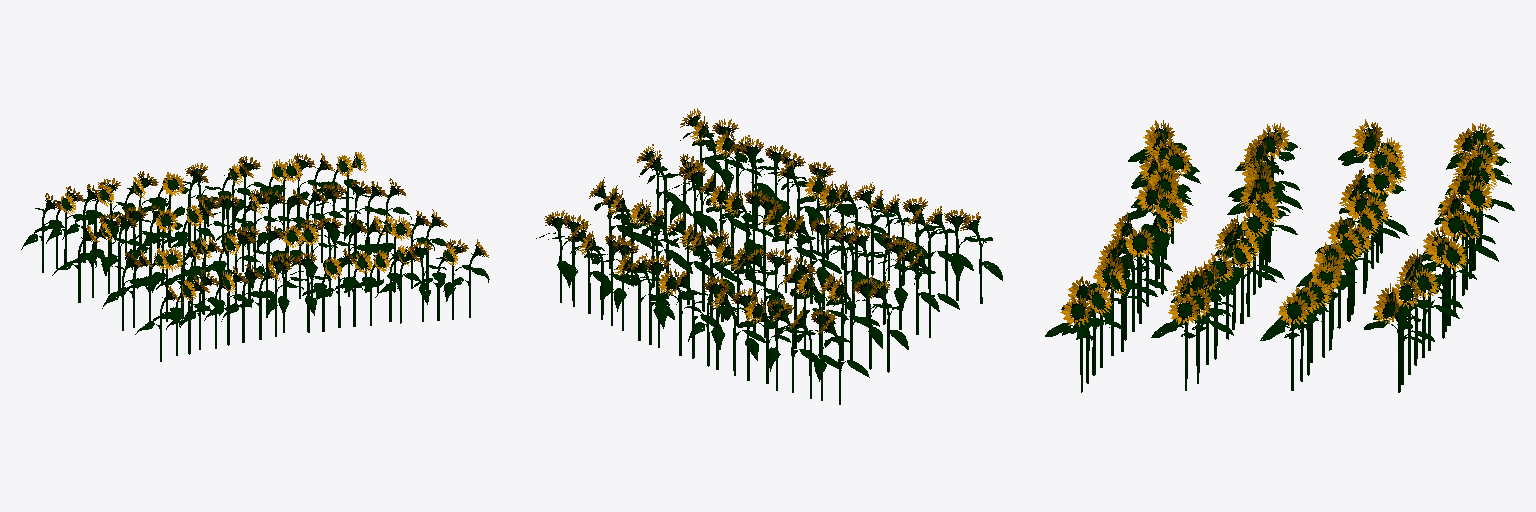
--- Facts derived from the render (not from the file) ---
3 views of the same robot in one strip: view 1: azimuth 30°, elevation 25°; view 2: azimuth 150°, elevation 25°; view 3: azimuth 270°, elevation 25° (orthographic).
Robot: field — 85 links, 84 joints (84 fixed); root link dummy_link; default pose: every joint at zero.
Links seen in each view (by area): view 1: plant_26, plant_48, plant_56, plant_44, plant_76; view 2: plant_45, plant_21, plant_2, plant_6, plant_8, plant_4, plant_40, plant_72, plant_10, plant_25, plant_29, plant_33 (+22 smaller); view 3: plant_82, plant_83, plant_84, plant_81, plant_52, plant_80, plant_73, plant_22, plant_69, plant_57, plant_79, plant_51 (+26 smaller).
Link boxes in pixels (bbox=[...]): plant_26: bbox=[142, 209, 182, 282]; plant_48: bbox=[302, 257, 341, 331]; plant_56: bbox=[335, 251, 372, 326]; plant_44: bbox=[290, 252, 331, 332]; plant_76: bbox=[413, 244, 457, 320]; plant_45: bbox=[649, 268, 702, 355]; plant_21: bbox=[737, 296, 790, 383]; plant_2: bbox=[867, 280, 908, 372]; plant_6: bbox=[843, 276, 891, 369]; plant_8: bbox=[936, 209, 986, 300]; plant_4: bbox=[960, 212, 1002, 303]; plant_40: bbox=[815, 181, 869, 269]; plant_72: bbox=[707, 130, 761, 217]; plant_10: bbox=[826, 276, 879, 360]; plant_25: bbox=[731, 288, 771, 380]; plant_29: bbox=[711, 287, 765, 375]; plant_33: bbox=[694, 278, 744, 369]; plant_82: bbox=[1260, 296, 1322, 390]; plant_83: bbox=[1151, 294, 1211, 390]; plant_84: bbox=[1045, 295, 1109, 392]; plant_81: bbox=[1364, 293, 1424, 392]; plant_52: bbox=[1120, 227, 1166, 323]; plant_80: bbox=[1062, 285, 1112, 383]; plant_73: bbox=[1373, 277, 1436, 374]; plant_22: bbox=[1355, 165, 1405, 262]; plant_69: bbox=[1400, 267, 1443, 365]; plant_57: bbox=[1428, 241, 1466, 338]; plant_79: bbox=[1172, 287, 1223, 383]; plant_51: bbox=[1215, 222, 1276, 323].
Bounding box of the posed robot: 3.48 × 3.43 × 0.8235 m (x, y, z).
Meshes: 1 distinct files referenced, 84 mesh visuals loaded (1 Collada DAE).

robot.urdf — field:
<?xml version="1.0"?> 
<robot name="field"> 
 <!-- auto generated urdf file --> 
 <link name="dummy_link"> 
  <inertial> 
   <origin xyz="0 0 0" /> 
   <mass value="5.0" /> 
   <inertia ixx="0.0" ixy="0.0" ixz="0.0" iyy="0.0" iyz="0.0" izz="0.0" /> 
  </inertial> 
  <visual> 
   <origin xyz="0 0 0" /> 
   <geometry> 
    <box size="0.00 0.00 0.00" /> 
   </geometry> 
  </visual> 
  <collision> 
   <origin xyz="0 0 0" /> 
   <geometry> 
    <box size="0.00 0.00 0.00" /> 
   </geometry> 
  </collision> 
 </link> 
 
 
 <!-- generate plants --> <link name="plant_1">
  <inertial>
   <origin xyz="0 0 0" /> 
   <mass value="5.0" />
   <inertia ixx="0.0" ixy="0.0" ixz="0.0" iyy="0.0" iyz="0.0" izz="0.0" />
  </inertial>
  <visual>
   <origin xyz="0 0 0"/>
   <geometry>
    <mesh filename="package://herbi_gazebo_worlds/ros/meshes/sunflower.dae"/>
   </geometry>
  </visual>
  <collision>
   <origin xyz="0 0 0.2"/>
   <geometry>
    <cylinder length="0.4" radius="0.02"/>
   </geometry>
  </collision>
 </link>

 <joint name="joint_plant_1" type="fixed">
  <origin xyz="0.013746 0.360110 0.000000" rpy="0.000000 0.000000 1.920525" />
  <parent link="dummy_link" />
  <child link="plant_1" />
 </joint>


 <link name="plant_2">
  <inertial>
   <origin xyz="0 0 0" /> 
   <mass value="5.0" />
   <inertia ixx="0.0" ixy="0.0" ixz="0.0" iyy="0.0" iyz="0.0" izz="0.0" />
  </inertial>
  <visual>
   <origin xyz="0 0 0"/>
   <geometry>
    <mesh filename="package://herbi_gazebo_worlds/ros/meshes/sunflower.dae"/>
   </geometry>
  </visual>
  <collision>
   <origin xyz="0 0 0.2"/>
   <geometry>
    <cylinder length="0.4" radius="0.02"/>
   </geometry>
  </collision>
 </link>

 <joint name="joint_plant_2" type="fixed">
  <origin xyz="-0.023922 -0.387124 0.000000" rpy="0.000000 0.000000 1.431277" />
  <parent link="dummy_link" />
  <child link="plant_2" />
 </joint>


 <link name="plant_3">
  <inertial>
   <origin xyz="0 0 0" /> 
   <mass value="5.0" />
   <inertia ixx="0.0" ixy="0.0" ixz="0.0" iyy="0.0" iyz="0.0" izz="0.0" />
  </inertial>
  <visual>
   <origin xyz="0 0 0"/>
   <geometry>
    <mesh filename="package://herbi_gazebo_worlds/ros/meshes/sunflower.dae"/>
   </geometry>
  </visual>
  <collision>
   <origin xyz="0 0 0.2"/>
   <geometry>
    <cylinder length="0.4" radius="0.02"/>
   </geometry>
  </collision>
 </link>

 <joint name="joint_plant_3" type="fixed">
  <origin xyz="0.021951 -1.141111 0.000000" rpy="0.000000 0.000000 1.974890" />
  <parent link="dummy_link" />
  <child link="plant_3" />
 </joint>


 <link name="plant_4">
  <inertial>
   <origin xyz="0 0 0" /> 
   <mass value="5.0" />
   <inertia ixx="0.0" ixy="0.0" ixz="0.0" iyy="0.0" iyz="0.0" izz="0.0" />
  </inertial>
  <visual>
   <origin xyz="0 0 0"/>
   <geometry>
    <mesh filename="package://herbi_gazebo_worlds/ros/meshes/sunflower.dae"/>
   </geometry>
  </visual>
  <collision>
   <origin xyz="0 0 0.2"/>
   <geometry>
    <cylinder length="0.4" radius="0.02"/>
   </geometry>
  </collision>
 </link>

 <joint name="joint_plant_4" type="fixed">
  <origin xyz="-0.017349 -1.920998 0.000000" rpy="0.000000 0.000000 1.524106" />
  <parent link="dummy_link" />
  <child link="plant_4" />
 </joint>


 <link name="plant_5">
  <inertial>
   <origin xyz="0 0 0" /> 
   <mass value="5.0" />
   <inertia ixx="0.0" ixy="0.0" ixz="0.0" iyy="0.0" iyz="0.0" izz="0.0" />
  </inertial>
  <visual>
   <origin xyz="0 0 0"/>
   <geometry>
    <mesh filename="package://herbi_gazebo_worlds/ros/meshes/sunflower.dae"/>
   </geometry>
  </visual>
  <collision>
   <origin xyz="0 0 0.2"/>
   <geometry>
    <cylinder length="0.4" radius="0.02"/>
   </geometry>
  </collision>
 </link>

 <joint name="joint_plant_5" type="fixed">
  <origin xyz="0.167095 0.380386 0.000000" rpy="0.000000 0.000000 0.677005" />
  <parent link="dummy_link" />
  <child link="plant_5" />
 </joint>


 <link name="plant_6">
  <inertial>
   <origin xyz="0 0 0" /> 
   <mass value="5.0" />
   <inertia ixx="0.0" ixy="0.0" ixz="0.0" iyy="0.0" iyz="0.0" izz="0.0" />
  </inertial>
  <visual>
   <origin xyz="0 0 0"/>
   <geometry>
    <mesh filename="package://herbi_gazebo_worlds/ros/meshes/sunflower.dae"/>
   </geometry>
  </visual>
  <collision>
   <origin xyz="0 0 0.2"/>
   <geometry>
    <cylinder length="0.4" radius="0.02"/>
   </geometry>
  </collision>
 </link>

 <joint name="joint_plant_6" type="fixed">
  <origin xyz="0.134486 -0.361888 0.000000" rpy="0.000000 0.000000 1.139696" />
  <parent link="dummy_link" />
  <child link="plant_6" />
 </joint>


 <link name="plant_7">
  <inertial>
   <origin xyz="0 0 0" /> 
   <mass value="5.0" />
   <inertia ixx="0.0" ixy="0.0" ixz="0.0" iyy="0.0" iyz="0.0" izz="0.0" />
  </inertial>
  <visual>
   <origin xyz="0 0 0"/>
   <geometry>
    <mesh filename="package://herbi_gazebo_worlds/ros/meshes/sunflower.dae"/>
   </geometry>
  </visual>
  <collision>
   <origin xyz="0 0 0.2"/>
   <geometry>
    <cylinder length="0.4" radius="0.02"/>
   </geometry>
  </collision>
 </link>

 <joint name="joint_plant_7" type="fixed">
  <origin xyz="0.137681 -1.136649 0.000000" rpy="0.000000 0.000000 1.530786" />
  <parent link="dummy_link" />
  <child link="plant_7" />
 </joint>


 <link name="plant_8">
  <inertial>
   <origin xyz="0 0 0" /> 
   <mass value="5.0" />
   <inertia ixx="0.0" ixy="0.0" ixz="0.0" iyy="0.0" iyz="0.0" izz="0.0" />
  </inertial>
  <visual>
   <origin xyz="0 0 0"/>
   <geometry>
    <mesh filename="package://herbi_gazebo_worlds/ros/meshes/sunflower.dae"/>
   </geometry>
  </visual>
  <collision>
   <origin xyz="0 0 0.2"/>
   <geometry>
    <cylinder length="0.4" radius="0.02"/>
   </geometry>
  </collision>
 </link>

 <joint name="joint_plant_8" type="fixed">
  <origin xyz="0.174470 -1.874188 0.000000" rpy="0.000000 0.000000 0.792374" />
  <parent link="dummy_link" />
  <child link="plant_8" />
 </joint>


 <link name="plant_9">
  <inertial>
   <origin xyz="0 0 0" /> 
   <mass value="5.0" />
   <inertia ixx="0.0" ixy="0.0" ixz="0.0" iyy="0.0" iyz="0.0" izz="0.0" />
  </inertial>
  <visual>
   <origin xyz="0 0 0"/>
   <geometry>
    <mesh filename="package://herbi_gazebo_worlds/ros/meshes/sunflower.dae"/>
   </geometry>
  </visual>
  <collision>
   <origin xyz="0 0 0.2"/>
   <geometry>
    <cylinder length="0.4" radius="0.02"/>
   </geometry>
  </collision>
 </link>

 <joint name="joint_plant_9" type="fixed">
  <origin xyz="0.278030 0.386138 0.000000" rpy="0.000000 0.000000 2.036478" />
  <parent link="dummy_link" />
  <child link="plant_9" />
 </joint>


 <link name="plant_10">
  <inertial>
   <origin xyz="0 0 0" /> 
   <mass value="5.0" />
   <inertia ixx="0.0" ixy="0.0" ixz="0.0" iyy="0.0" iyz="0.0" izz="0.0" />
  </inertial>
  <visual>
   <origin xyz="0 0 0"/>
   <geometry>
    <mesh filename="package://herbi_gazebo_worlds/ros/meshes/sunflower.dae"/>
   </geometry>
  </visual>
  <collision>
   <origin xyz="0 0 0.2"/>
   <geometry>
    <cylinder length="0.4" radius="0.02"/>
   </geometry>
  </collision>
 </link>

 <joint name="joint_plant_10" type="fixed">
  <origin xyz="0.325340 -0.356673 0.000000" rpy="0.000000 0.000000 2.728549" />
  <parent link="dummy_link" />
  <child link="plant_10" />
 </joint>


 <link name="plant_11">
  <inertial>
   <origin xyz="0 0 0" /> 
   <mass value="5.0" />
   <inertia ixx="0.0" ixy="0.0" ixz="0.0" iyy="0.0" iyz="0.0" izz="0.0" />
  </inertial>
  <visual>
   <origin xyz="0 0 0"/>
   <geometry>
    <mesh filename="package://herbi_gazebo_worlds/ros/meshes/sunflower.dae"/>
   </geometry>
  </visual>
  <collision>
   <origin xyz="0 0 0.2"/>
   <geometry>
    <cylinder length="0.4" radius="0.02"/>
   </geometry>
  </collision>
 </link>

 <joint name="joint_plant_11" type="fixed">
  <origin xyz="0.300441 -1.146383 0.000000" rpy="0.000000 0.000000 0.820049" />
  <parent link="dummy_link" />
  <child link="plant_11" />
 </joint>


 <link name="plant_12">
  <inertial>
   <origin xyz="0 0 0" /> 
   <mass value="5.0" />
   <inertia ixx="0.0" ixy="0.0" ixz="0.0" iyy="0.0" iyz="0.0" izz="0.0" />
  </inertial>
  <visual>
   <origin xyz="0 0 0"/>
   <geometry>
    <mesh filename="package://herbi_gazebo_worlds/ros/meshes/sunflower.dae"/>
   </geometry>
  </visual>
  <collision>
   <origin xyz="0 0 0.2"/>
   <geometry>
    <cylinder length="0.4" radius="0.02"/>
   </geometry>
  </collision>
 </link>

 <joint name="joint_plant_12" type="fixed">
  <origin xyz="0.302030 -1.904972 0.000000" rpy="0.000000 0.000000 1.779090" />
  <parent link="dummy_link" />
  <child link="plant_12" />
 </joint>


 <link name="plant_13">
  <inertial>
   <origin xyz="0 0 0" /> 
   <mass value="5.0" />
   <inertia ixx="0.0" ixy="0.0" ixz="0.0" iyy="0.0" iyz="0.0" izz="0.0" />
  </inertial>
  <visual>
   <origin xyz="0 0 0"/>
   <geometry>
    <mesh filename="package://herbi_gazebo_worlds/ros/meshes/sunflower.dae"/>
   </geometry>
  </visual>
  <collision>
   <origin xyz="0 0 0.2"/>
   <geometry>
    <cylinder length="0.4" radius="0.02"/>
   </geometry>
  </collision>
 </link>

 <joint name="joint_plant_13" type="fixed">
  <origin xyz="0.463904 0.356712 0.000000" rpy="0.000000 0.000000 1.894726" />
  <parent link="dummy_link" />
  <child link="plant_13" />
 </joint>


 <link name="plant_14">
  <inertial>
   <origin xyz="0 0 0" /> 
   <mass value="5.0" />
   <inertia ixx="0.0" ixy="0.0" ixz="0.0" iyy="0.0" iyz="0.0" izz="0.0" />
  </inertial>
  <visual>
   <origin xyz="0 0 0"/>
   <geometry>
    <mesh filename="package://herbi_gazebo_worlds/ros/meshes/sunflower.dae"/>
   </geometry>
  </visual>
  <collision>
   <origin xyz="0 0 0.2"/>
   <geometry>
    <cylinder length="0.4" radius="0.02"/>
   </geometry>
  </collision>
 </link>

 <joint name="joint_plant_14" type="fixed">
  <origin xyz="0.421614 -0.384696 0.000000" rpy="0.000000 0.000000 2.240352" />
  <parent link="dummy_link" />
  <child link="plant_14" />
 </joint>


 <link name="plant_15">
  <inertial>
   <origin xyz="0 0 0" /> 
   <mass value="5.0" />
   <inertia ixx="0.0" ixy="0.0" ixz="0.0" iyy="0.0" iyz="0.0" izz="0.0" />
  </inertial>
  <visual>
   <origin xyz="0 0 0"/>
   <geometry>
    <mesh filename="package://herbi_gazebo_worlds/ros/meshes/sunflower.dae"/>
   </geometry>
  </visual>
  <collision>
   <origin xyz="0 0 0.2"/>
   <geometry>
    <cylinder length="0.4" radius="0.02"/>
   </geometry>
  </collision>
 </link>

 <joint name="joint_plant_15" type="fixed">
  <origin xyz="0.467941 -1.169510 0.000000" rpy="0.000000 0.000000 0.178806" />
  <parent link="dummy_link" />
  <child link="plant_15" />
 </joint>


 <link name="plant_16">
  <inertial>
   <origin xyz="0 0 0" /> 
   <mass value="5.0" />
   <inertia ixx="0.0" ixy="0.0" ixz="0.0" iyy="0.0" iyz="0.0" izz="0.0" />
  </inertial>
  <visual>
   <origin xyz="0 0 0"/>
   <geometry>
    <mesh filename="package://herbi_gazebo_worlds/ros/meshes/sunflower.dae"/>
   </geometry>
  </visual>
  <collision>
   <origin xyz="0 0 0.2"/>
   <geometry>
    <cylinder length="0.4" radius="0.02"/>
   </geometry>
  </collision>
 </link>

 <joint name="joint_plant_16" type="fixed">
  <origin xyz="0.442621 -1.861529 0.000000" rpy="0.000000 0.000000 2.035556" />
  <parent link="dummy_link" />
  <child link="plant_16" />
 </joint>


 <link name="plant_17">
  <inertial>
   <origin xyz="0 0 0" /> 
   <mass value="5.0" />
   <inertia ixx="0.0" ixy="0.0" ixz="0.0" iyy="0.0" iyz="0.0" izz="0.0" />
  </inertial>
  <visual>
   <origin xyz="0 0 0"/>
   <geometry>
    <mesh filename="package://herbi_gazebo_worlds/ros/meshes/sunflower.dae"/>
   </geometry>
  </visual>
  <collision>
   <origin xyz="0 0 0.2"/>
   <geometry>
    <cylinder length="0.4" radius="0.02"/>
   </geometry>
  </collision>
 </link>

 <joint name="joint_plant_17" type="fixed">
  <origin xyz="0.592434 0.388335 0.000000" rpy="0.000000 0.000000 0.546413" />
  <parent link="dummy_link" />
  <child link="plant_17" />
 </joint>


 <link name="plant_18">
  <inertial>
   <origin xyz="0 0 0" /> 
   <mass value="5.0" />
   <inertia ixx="0.0" ixy="0.0" ixz="0.0" iyy="0.0" iyz="0.0" izz="0.0" />
  </inertial>
  <visual>
   <origin xyz="0 0 0"/>
   <geometry>
    <mesh filename="package://herbi_gazebo_worlds/ros/meshes/sunflower.dae"/>
   </geometry>
  </visual>
  <collision>
   <origin xyz="0 0 0.2"/>
   <geometry>
    <cylinder length="0.4" radius="0.02"/>
   </geometry>
  </collision>
 </link>

 <joint name="joint_plant_18" type="fixed">
  <origin xyz="0.613783 -0.337919 0.000000" rpy="0.000000 0.000000 2.763159" />
  <parent link="dummy_link" />
  <child link="plant_18" />
 </joint>


 <link name="plant_19">
  <inertial>
   <origin xyz="0 0 0" /> 
   <mass value="5.0" />
   <inertia ixx="0.0" ixy="0.0" ixz="0.0" iyy="0.0" iyz="0.0" izz="0.0" />
  </inertial>
  <visual>
   <origin xyz="0 0 0"/>
   <geometry>
    <mesh filename="package://herbi_gazebo_worlds/ros/meshes/sunflower.dae"/>
   </geometry>
  </visual>
  <collision>
   <origin xyz="0 0 0.2"/>
   <geometry>
    <cylinder length="0.4" radius="0.02"/>
   </geometry>
  </collision>
 </link>

 <joint name="joint_plant_19" type="fixed">
  <origin xyz="0.636976 -1.185146 0.000000" rpy="0.000000 0.000000 1.330022" />
  <parent link="dummy_link" />
  <child link="plant_19" />
 </joint>


 <link name="plant_20">
  <inertial>
   <origin xyz="0 0 0" /> 
   <mass value="5.0" />
   <inertia ixx="0.0" ixy="0.0" ixz="0.0" iyy="0.0" iyz="0.0" izz="0.0" />
  </inertial>
  <visual>
   <origin xyz="0 0 0"/>
   <geometry>
    <mesh filename="package://herbi_gazebo_worlds/ros/meshes/sunflower.dae"/>
   </geometry>
  </visual>
  <collision>
   <origin xyz="0 0 0.2"/>
   <geometry>
    <cylinder length="0.4" radius="0.02"/>
   </geometry>
  </collision>
 </link>

 <joint name="joint_plant_20" type="fixed">
  <origin xyz="0.579586 -1.915103 0.000000" rpy="0.000000 0.000000 0.928783" />
  <parent link="dummy_link" />
  <child link="plant_20" />
 </joint>


 <link name="plant_21">
  <inertial>
   <origin xyz="0 0 0" /> 
   <mass value="5.0" />
   <inertia ixx="0.0" ixy="0.0" ixz="0.0" iyy="0.0" iyz="0.0" izz="0.0" />
  </inertial>
  <visual>
   <origin xyz="0 0 0"/>
   <geometry>
    <mesh filename="package://herbi_gazebo_worlds/ros/meshes/sunflower.dae"/>
   </geometry>
  </visual>
  <collision>
   <origin xyz="0 0 0.2"/>
   <geometry>
    <cylinder length="0.4" radius="0.02"/>
   </geometry>
  </collision>
 </link>

 <joint name="joint_plant_21" type="fixed">
  <origin xyz="0.739304 0.319986 0.000000" rpy="0.000000 0.000000 3.016230" />
  <parent link="dummy_link" />
  <child link="plant_21" />
 </joint>


 <link name="plant_22">
  <inertial>
   <origin xyz="0 0 0" /> 
   <mass value="5.0" />
   <inertia ixx="0.0" ixy="0.0" ixz="0.0" iyy="0.0" iyz="0.0" izz="0.0" />
  </inertial>
  <visual>
   <origin xyz="0 0 0"/>
   <geometry>
    <mesh filename="package://herbi_gazebo_worlds/ros/meshes/sunflower.dae"/>
   </geometry>
  </visual>
  <collision>
   <origin xyz="0 0 0.2"/>
   <geometry>
    <cylinder length="0.4" radius="0.02"/>
   </geometry>
  </collision>
 </link>

 <joint name="joint_plant_22" type="fixed">
  <origin xyz="0.768907 -0.367164 0.000000" rpy="0.000000 0.000000 2.046943" />
  <parent link="dummy_link" />
  <child link="plant_22" />
 </joint>


 <link name="plant_23">
  <inertial>
   <origin xyz="0 0 0" /> 
   <mass value="5.0" />
   <inertia ixx="0.0" ixy="0.0" ixz="0.0" iyy="0.0" iyz="0.0" izz="0.0" />
  </inertial>
  <visual>
   <origin xyz="0 0 0"/>
   <geometry>
    <mesh filename="package://herbi_gazebo_worlds/ros/meshes/sunflower.dae"/>
   </geometry>
  </visual>
  <collision>
   <origin xyz="0 0 0.2"/>
   <geometry>
    <cylinder length="0.4" radius="0.02"/>
   </geometry>
  </collision>
 </link>

 <joint name="joint_plant_23" type="fixed">
  <origin xyz="0.755709 -1.158686 0.000000" rpy="0.000000 0.000000 1.142810" />
  <parent link="dummy_link" />
  <child link="plant_23" />
 </joint>


 <link name="plant_24">
  <inertial>
   <origin xyz="0 0 0" /> 
   <mass value="5.0" />
   <inertia ixx="0.0" ixy="0.0" ixz="0.0" iyy="0.0" iyz="0.0" izz="0.0" />
  </inertial>
  <visual>
   <origin xyz="0 0 0"/>
   <geometry>
    <mesh filename="package://herbi_gazebo_worlds/ros/meshes/sunflower.dae"/>
   </geometry>
  </visual>
  <collision>
   <origin xyz="0 0 0.2"/>
   <geometry>
    <cylinder length="0.4" radius="0.02"/>
   </geometry>
  </collision>
 </link>

 <joint name="joint_plant_24" type="fixed">
  <origin xyz="0.722212 -1.914032 0.000000" rpy="0.000000 0.000000 1.747621" />
  <parent link="dummy_link" />
  <child link="plant_24" />
 </joint>


 <link name="plant_25">
  <inertial>
   <origin xyz="0 0 0" /> 
   <mass value="5.0" />
   <inertia ixx="0.0" ixy="0.0" ixz="0.0" iyy="0.0" iyz="0.0" izz="0.0" />
  </inertial>
  <visual>
   <origin xyz="0 0 0"/>
   <geometry>
    <mesh filename="package://herbi_gazebo_worlds/ros/meshes/sunflower.dae"/>
   </geometry>
  </visual>
  <collision>
   <origin xyz="0 0 0.2"/>
   <geometry>
    <cylinder length="0.4" radius="0.02"/>
   </geometry>
  </collision>
 </link>

 <joint name="joint_plant_25" type="fixed">
  <origin xyz="0.896949 0.334259 0.000000" rpy="0.000000 0.000000 1.040442" />
  <parent link="dummy_link" />
  <child link="plant_25" />
 </joint>


 <link name="plant_26">
  <inertial>
   <origin xyz="0 0 0" /> 
   <mass value="5.0" />
   <inertia ixx="0.0" ixy="0.0" ixz="0.0" iyy="0.0" iyz="0.0" izz="0.0" />
  </inertial>
  <visual>
   <origin xyz="0 0 0"/>
   <geometry>
    <mesh filename="package://herbi_gazebo_worlds/ros/meshes/sunflower.dae"/>
   </geometry>
  </visual>
  <collision>
   <origin xyz="0 0 0.2"/>
   <geometry>
    <cylinder length="0.4" radius="0.02"/>
   </geometry>
  </collision>
 </link>

 <joint name="joint_plant_26" type="fixed">
  <origin xyz="0.867967 -0.396096 0.000000" rpy="0.000000 0.000000 0.033898" />
  <parent link="dummy_link" />
  <child link="plant_26" />
 </joint>


 <link name="plant_27">
  <inertial>
   <origin xyz="0 0 0" /> 
   <mass value="5.0" />
   <inertia ixx="0.0" ixy="0.0" ixz="0.0" iyy="0.0" iyz="0.0" izz="0.0" />
  </inertial>
  <visual>
   <origin xyz="0 0 0"/>
   <geometry>
    <mesh filename="package://herbi_gazebo_worlds/ros/meshes/sunflower.dae"/>
   </geometry>
  </visual>
  <collision>
   <origin xyz="0 0 0.2"/>
   <geometry>
    <cylinder length="0.4" radius="0.02"/>
   </geometry>
  </collision>
 </link>

 <joint name="joint_plant_27" type="fixed">
  <origin xyz="0.859363 -1.203648 0.000000" rpy="0.000000 0.000000 1.679963" />
  <parent link="dummy_link" />
  <child link="plant_27" />
 </joint>


 <link name="plant_28">
  <inertial>
   <origin xyz="0 0 0" /> 
   <mass value="5.0" />
   <inertia ixx="0.0" ixy="0.0" ixz="0.0" iyy="0.0" iyz="0.0" izz="0.0" />
  </inertial>
  <visual>
   <origin xyz="0 0 0"/>
   <geometry>
    <mesh filename="package://herbi_gazebo_worlds/ros/meshes/sunflower.dae"/>
   </geometry>
  </visual>
  <collision>
   <origin xyz="0 0 0.2"/>
   <geometry>
    <cylinder length="0.4" radius="0.02"/>
   </geometry>
  </collision>
 </link>

 <joint name="joint_plant_28" type="fixed">
  <origin xyz="0.874545 -1.938477 0.000000" rpy="0.000000 0.000000 1.923570" />
  <parent link="dummy_link" />
  <child link="plant_28" />
 </joint>


 <link name="plant_29">
  <inertial>
   <origin xyz="0 0 0" /> 
   <mass value="5.0" />
   <inertia ixx="0.0" ixy="0.0" ixz="0.0" iyy="0.0" iyz="0.0" izz="0.0" />
  </inertial>
  <visual>
   <origin xyz="0 0 0"/>
   <geometry>
    <mesh filename="package://herbi_gazebo_worlds/ros/meshes/sunflower.dae"/>
   </geometry>
  </visual>
  <collision>
   <origin xyz="0 0 0.2"/>
   <geometry>
    <cylinder length="0.4" radius="0.02"/>
   </geometry>
  </collision>
 </link>

 <joint name="joint_plant_29" type="fixed">
  <origin xyz="1.050482 0.308634 0.000000" rpy="0.000000 0.000000 2.296601" />
  <parent link="dummy_link" />
  <child link="plant_29" />
 </joint>


 <link name="plant_30">
  <inertial>
   <origin xyz="0 0 0" /> 
   <mass value="5.0" />
   <inertia ixx="0.0" ixy="0.0" ixz="0.0" iyy="0.0" iyz="0.0" izz="0.0" />
  </inertial>
  <visual>
   <origin xyz="0 0 0"/>
   <geometry>
    <mesh filename="package://herbi_gazebo_worlds/ros/meshes/sunflower.dae"/>
   </geometry>
  </visual>
  <collision>
   <origin xyz="0 0 0.2"/>
   <geometry>
    <cylinder length="0.4" radius="0.02"/>
   </geometry>
  </collision>
 </link>

 <joint name="joint_plant_30" type="fixed">
  <origin xyz="1.078223 -0.444424 0.000000" rpy="0.000000 0.000000 0.605612" />
  <parent link="dummy_link" />
  <child link="plant_30" />
 </joint>


 <link name="plant_31">
  <inertial>
   <origin xyz="0 0 0" /> 
   <mass value="5.0" />
   <inertia ixx="0.0" ixy="0.0" ixz="0.0" iyy="0.0" iyz="0.0" izz="0.0" />
  </inertial>
  <visual>
   <origin xyz="0 0 0"/>
   <geometry>
    <mesh filename="package://herbi_gazebo_worlds/ros/meshes/sunflower.dae"/>
   </geometry>
  </visual>
  <collision>
   <origin xyz="0 0 0.2"/>
   <geometry>
    <cylinder length="0.4" radius="0.02"/>
   </geometry>
  </collision>
 </link>

 <joint name="joint_plant_31" type="fixed">
  <origin xyz="1.050535 -1.175172 0.000000" rpy="0.000000 0.000000 0.748263" />
  <parent link="dummy_link" />
  <child link="plant_31" />
 </joint>


 <link name="plant_32">
  <inertial>
   <origin xyz="0 0 0" /> 
   <mass value="5.0" />
   <inertia ixx="0.0" ixy="0.0" ixz="0.0" iyy="0.0" iyz="0.0" izz="0.0" />
  </inertial>
  <visual>
   <origin xyz="0 0 0"/>
   <geometry>
    <mesh filename="package://herbi_gazebo_worlds/ros/meshes/sunflower.dae"/>
   </geometry>
  </visual>
  <collision>
   <origin xyz="0 0 0.2"/>
   <geometry>
    <cylinder length="0.4" radius="0.02"/>
   </geometry>
  </collision>
 </link>

 <joint name="joint_plant_32" type="fixed">
  <origin xyz="1.038171 -1.963918 0.000000" rpy="0.000000 0.000000 1.370838" />
  <parent link="dummy_link" />
  <child link="plant_32" />
 </joint>


 <link name="plant_33">
  <inertial>
   <origin xyz="0 0 0" /> 
   <mass value="5.0" />
   <inertia ixx="0.0" ixy="0.0" ixz="0.0" iyy="0.0" iyz="0.0" izz="0.0" />
  </inertial>
  <visual>
   <origin xyz="0 0 0"/>
   <geometry>
    <mesh filename="package://herbi_gazebo_worlds/ros/meshes/sunflower.dae"/>
   </geometry>
  </visual>
  <collision>
   <origin xyz="0 0 0.2"/>
   <geometry>
    <cylinder length="0.4" radius="0.02"/>
   </geometry>
  </collision>
 </link>

 <joint name="joint_plant_33" type="fixed">
  <origin xyz="1.220562 0.281447 0.000000" rpy="0.000000 0.000000 0.832739" />
  <parent link="dummy_link" />
  <child link="plant_33" />
 </joint>


 <link name="plant_34">
  <inertial>
   <origin xyz="0 0 0" /> 
   <mass value="5.0" />
   <inertia ixx="0.0" ixy="0.0" ixz="0.0" iyy="0.0" iyz="0.0" izz="0.0" />
  </inertial>
  <visual>
   <origin xyz="0 0 0"/>
   <geometry>
    <mesh filename="package://herbi_gazebo_worlds/ros/meshes/sunflower.dae"/>
   </geometry>
  </visual>
  <collision>
   <origin xyz="0 0 0.2"/>
   <geometry>
    <cylinder length="0.4" radius="0.02"/>
   </geometry>
  </collision>
 </link>

 <joint name="joint_plant_34" type="fixed">
  <origin xyz="1.195583 -0.454949 0.000000" rpy="0.000000 0.000000 1.550335" />
  <parent link="dummy_link" />
  <child link="plant_34" />
 </joint>


 <link name="plant_35">
  <inertial>
   <origin xyz="0 0 0" /> 
   <mass value="5.0" />
   <inertia ixx="0.0" ixy="0.0" ixz="0.0" iyy="0.0" iyz="0.0" izz="0.0" />
  </inertial>
  <visual>
   <origin xyz="0 0 0"/>
   <geometry>
    <mesh filename="package://herbi_gazebo_worlds/ros/meshes/sunflower.dae"/>
   </geometry>
  </visual>
  <collision>
   <origin xyz="0 0 0.2"/>
   <geometry>
    <cylinder length="0.4" radius="0.02"/>
   </geometry>
  </collision>
 </link>

 <joint name="joint_plant_35" type="fixed">
  <origin xyz="1.203769 -1.226267 0.000000" rpy="0.000000 0.000000 2.078603" />
  <parent link="dummy_link" />
  <child link="plant_35" />
 </joint>


 <link name="plant_36">
  <inertial>
   <origin xyz="0 0 0" /> 
   <mass value="5.0" />
   <inertia ixx="0.0" ixy="0.0" ixz="0.0" iyy="0.0" iyz="0.0" izz="0.0" />
  </inertial>
  <visual>
   <origin xyz="0 0 0"/>
   <geometry>
    <mesh filename="package://herbi_gazebo_worlds/ros/meshes/sunflower.dae"/>
   </geometry>
  </visual>
  <collision>
   <origin xyz="0 0 0.2"/>
   <geometry>
    <cylinder length="0.4" radius="0.02"/>
   </geometry>
  </collision>
 </link>

 <joint name="joint_plant_36" type="fixed">
  <origin xyz="1.210002 -1.976982 0.000000" rpy="0.000000 0.000000 2.498023" />
  <parent link="dummy_link" />
  <child link="plant_36" />
 </joint>


 <link name="plant_37">
  <inertial>
   <origin xyz="0 0 0" /> 
   <mass value="5.0" />
   <inertia ixx="0.0" ixy="0.0" ixz="0.0" iyy="0.0" iyz="0.0" izz="0.0" />
  </inertial>
  <visual>
   <origin xyz="0 0 0"/>
   <geometry>
    <mesh filename="package://herbi_gazebo_worlds/ros/meshes/sunflower.dae"/>
   </geometry>
  </visual>
  <collision>
   <origin xyz="0 0 0.2"/>
   <geometry>
    <cylinder length="0.4" radius="0.02"/>
   </geometry>
  </collision>
 </link>

 <joint name="joint_plant_37" type="fixed">
  <origin xyz="1.321890 0.263172 0.000000" rpy="0.000000 0.000000 0.040507" />
  <parent link="dummy_link" />
  <child link="plant_37" />
 </joint>


 <link name="plant_38">
  <inertial>
   <origin xyz="0 0 0" /> 
   <mass value="5.0" />
   <inertia ixx="0.0" ixy="0.0" ixz="0.0" iyy="0.0" iyz="0.0" izz="0.0" />
  </inertial>
  <visual>
   <origin xyz="0 0 0"/>
   <geometry>
    <mesh filename="package://herbi_gazebo_worlds/ros/meshes/sunflower.dae"/>
   </geometry>
  </visual>
  <collision>
   <origin xyz="0 0 0.2"/>
   <geometry>
    <cylinder length="0.4" radius="0.02"/>
   </geometry>
  </collision>
 </link>

 <joint name="joint_plant_38" type="fixed">
  <origin xyz="1.308871 -0.459505 0.000000" rpy="0.000000 0.000000 2.514357" />
  <parent link="dummy_link" />
  <child link="plant_38" />
 </joint>


 <link name="plant_39">
  <inertial>
   <origin xyz="0 0 0" /> 
   <mass value="5.0" />
   <inertia ixx="0.0" ixy="0.0" ixz="0.0" iyy="0.0" iyz="0.0" izz="0.0" />
  </inertial>
  <visual>
   <origin xyz="0 0 0"/>
   <geometry>
    <mesh filename="package://herbi_gazebo_worlds/ros/meshes/sunflower.dae"/>
   </geometry>
  </visual>
  <collision>
   <origin xyz="0 0 0.2"/>
   <geometry>
    <cylinder length="0.4" radius="0.02"/>
   </geometry>
  </collision>
 </link>

 <joint name="joint_plant_39" type="fixed">
  <origin xyz="1.332316 -1.262487 0.000000" rpy="0.000000 0.000000 2.965130" />
  <parent link="dummy_link" />
  <child link="plant_39" />
 </joint>


 <link name="plant_40">
  <inertial>
   <origin xyz="0 0 0" /> 
   <mass value="5.0" />
   <inertia ixx="0.0" ixy="0.0" ixz="0.0" iyy="0.0" iyz="0.0" izz="0.0" />
  </inertial>
  <visual>
   <origin xyz="0 0 0"/>
   <geometry>
    <mesh filename="package://herbi_gazebo_worlds/ros/meshes/sunflower.dae"/>
   </geometry>
  </visual>
  <collision>
   <origin xyz="0 0 0.2"/>
   <geometry>
    <cylinder length="0.4" radius="0.02"/>
   </geometry>
  </collision>
 </link>

 <joint name="joint_plant_40" type="fixed">
  <origin xyz="1.319643 -1.933130 0.000000" rpy="0.000000 0.000000 2.864674" />
  <parent link="dummy_link" />
  <child link="plant_40" />
 </joint>


 <link name="plant_41">
  <inertial>
   <origin xyz="0 0 0" /> 
   <mass value="5.0" />
   <inertia ixx="0.0" ixy="0.0" ixz="0.0" iyy="0.0" iyz="0.0" izz="0.0" />
  </inertial>
  <visual>
   <origin xyz="0 0 0"/>
   <geometry>
    <mesh filename="package://herbi_gazebo_worlds/ros/meshes/sunflower.dae"/>
   </geometry>
  </visual>
  <collision>
   <origin xyz="0 0 0.2"/>
   <geometry>
    <cylinder length="0.4" radius="0.02"/>
   </geometry>
  </collision>
 </link>

 <joint name="joint_plant_41" type="fixed">
  <origin xyz="1.512638 0.186338 0.000000" rpy="0.000000 0.000000 1.916935" />
  <parent link="dummy_link" />
  <child link="plant_41" />
 </joint>


 <link name="plant_42">
  <inertial>
   <origin xyz="0 0 0" /> 
   <mass value="5.0" />
   <inertia ixx="0.0" ixy="0.0" ixz="0.0" iyy="0.0" iyz="0.0" izz="0.0" />
  </inertial>
  <visual>
   <origin xyz="0 0 0"/>
   <geometry>
    <mesh filename="package://herbi_gazebo_worlds/ros/meshes/sunflower.dae"/>
   </geometry>
  </visual>
  <collision>
   <origin xyz="0 0 0.2"/>
   <geometry>
    <cylinder length="0.4" radius="0.02"/>
   </geometry>
  </collision>
 </link>

 <joint name="joint_plant_42" type="fixed">
  <origin xyz="1.514335 -0.538899 0.000000" rpy="0.000000 0.000000 2.821070" />
  <parent link="dummy_link" />
  <child link="plant_42" />
 </joint>


 <link name="plant_43">
  <inertial>
   <origin xyz="0 0 0" /> 
   <mass value="5.0" />
   <inertia ixx="0.0" ixy="0.0" ixz="0.0" iyy="0.0" iyz="0.0" izz="0.0" />
  </inertial>
  <visual>
   <origin xyz="0 0 0"/>
   <geometry>
    <mesh filename="package://herbi_gazebo_worlds/ros/meshes/sunflower.dae"/>
   </geometry>
  </visual>
  <collision>
   <origin xyz="0 0 0.2"/>
   <geometry>
    <cylinder length="0.4" radius="0.02"/>
   </geometry>
  </collision>
 </link>

 <joint name="joint_plant_43" type="fixed">
  <origin xyz="1.495868 -1.312566 0.000000" rpy="0.000000 0.000000 2.237206" />
  <parent link="dummy_link" />
  <child link="plant_43" />
 </joint>


 <link name="plant_44">
  <inertial>
   <origin xyz="0 0 0" /> 
   <mass value="5.0" />
   <inertia ixx="0.0" ixy="0.0" ixz="0.0" iyy="0.0" iyz="0.0" izz="0.0" />
  </inertial>
  <visual>
   <origin xyz="0 0 0"/>
   <geometry>
    <mesh filename="package://herbi_gazebo_worlds/ros/meshes/sunflower.dae"/>
   </geometry>
  </visual>
  <collision>
   <origin xyz="0 0 0.2"/>
   <geometry>
    <cylinder length="0.4" radius="0.02"/>
   </geometry>
  </collision>
 </link>

 <joint name="joint_plant_44" type="fixed">
  <origin xyz="1.526889 -2.039615 0.000000" rpy="0.000000 0.000000 3.058785" />
  <parent link="dummy_link" />
  <child link="plant_44" />
 </joint>


 <link name="plant_45">
  <inertial>
   <origin xyz="0 0 0" /> 
   <mass value="5.0" />
   <inertia ixx="0.0" ixy="0.0" ixz="0.0" iyy="0.0" iyz="0.0" izz="0.0" />
  </inertial>
  <visual>
   <origin xyz="0 0 0"/>
   <geometry>
    <mesh filename="package://herbi_gazebo_worlds/ros/meshes/sunflower.dae"/>
   </geometry>
  </visual>
  <collision>
   <origin xyz="0 0 0.2"/>
   <geometry>
    <cylinder length="0.4" radius="0.02"/>
   </geometry>
  </collision>
 </link>

 <joint name="joint_plant_45" type="fixed">
  <origin xyz="1.639008 0.198295 0.000000" rpy="0.000000 0.000000 3.128423" />
  <parent link="dummy_link" />
  <child link="plant_45" />
 </joint>


 <link name="plant_46">
  <inertial>
   <origin xyz="0 0 0" /> 
   <mass value="5.0" />
   <inertia ixx="0.0" ixy="0.0" ixz="0.0" iyy="0.0" iyz="0.0" izz="0.0" />
  </inertial>
  <visual>
   <origin xyz="0 0 0"/>
   <geometry>
    <mesh filename="package://herbi_gazebo_worlds/ros/meshes/sunflower.dae"/>
   </geometry>
  </visual>
  <collision>
   <origin xyz="0 0 0.2"/>
   <geometry>
    <cylinder length="0.4" radius="0.02"/>
   </geometry>
  </collision>
 </link>

 <joint name="joint_plant_46" type="fixed">
  <origin xyz="1.658385 -0.554220 0.000000" rpy="0.000000 0.000000 1.159847" />
  <parent link="dummy_link" />
  <child link="plant_46" />
 </joint>


 <link name="plant_47">
  <inertial>
   <origin xyz="0 0 0" /> 
   <mass value="5.0" />
   <inertia ixx="0.0" ixy="0.0" ixz="0.0" iyy="0.0" iyz="0.0" izz="0.0" />
  </inertial>
  <visual>
   <origin xyz="0 0 0"/>
   <geometry>
    <mesh filename="package://herbi_gazebo_worlds/ros/meshes/sunflower.dae"/>
   </geometry>
  </visual>
  <collision>
   <origin xyz="0 0 0.2"/>
   <geometry>
    <cylinder length="0.4" radius="0.02"/>
   </geometry>
  </collision>
 </link>

 <joint name="joint_plant_47" type="fixed">
  <origin xyz="1.689693 -1.304731 0.000000" rpy="0.000000 0.000000 0.271884" />
  <parent link="dummy_link" />
  <child link="plant_47" />
 </joint>


 <link name="plant_48">
  <inertial>
   <origin xyz="0 0 0" /> 
   <mass value="5.0" />
   <inertia ixx="0.0" ixy="0.0" ixz="0.0" iyy="0.0" iyz="0.0" izz="0.0" />
  </inertial>
  <visual>
   <origin xyz="0 0 0"/>
   <geometry>
    <mesh filename="package://herbi_gazebo_worlds/ros/meshes/sunflower.dae"/>
   </geometry>
  </visual>
  <collision>
   <origin xyz="0 0 0.2"/>
   <geometry>
    <cylinder length="0.4" radius="0.02"/>
   </geometry>
  </collision>
 </link>

 <joint name="joint_plant_48" type="fixed">
  <origin xyz="1.636097 -2.104293 0.000000" rpy="0.000000 0.000000 0.560732" />
  <parent link="dummy_link" />
  <child link="plant_48" />
 </joint>


 <link name="plant_49">
  <inertial>
   <origin xyz="0 0 0" /> 
   <mass value="5.0" />
   <inertia ixx="0.0" ixy="0.0" ixz="0.0" iyy="0.0" iyz="0.0" izz="0.0" />
  </inertial>
  <visual>
   <origin xyz="0 0 0"/>
   <geometry>
    <mesh filename="package://herbi_gazebo_worlds/ros/meshes/sunflower.dae"/>
   </geometry>
  </visual>
  <collision>
   <origin xyz="0 0 0.2"/>
   <geometry>
    <cylinder length="0.4" radius="0.02"/>
   </geometry>
  </collision>
 </link>

 <joint name="joint_plant_49" type="fixed">
  <origin xyz="1.852528 0.153869 0.000000" rpy="0.000000 0.000000 0.903819" />
  <parent link="dummy_link" />
  <child link="plant_49" />
 </joint>


 <link name="plant_50">
  <inertial>
   <origin xyz="0 0 0" /> 
   <mass value="5.0" />
   <inertia ixx="0.0" ixy="0.0" ixz="0.0" iyy="0.0" iyz="0.0" izz="0.0" />
  </inertial>
  <visual>
   <origin xyz="0 0 0"/>
   <geometry>
    <mesh filename="package://herbi_gazebo_worlds/ros/meshes/sunflower.dae"/>
   </geometry>
  </visual>
  <collision>
   <origin xyz="0 0 0.2"/>
   <geometry>
    <cylinder length="0.4" radius="0.02"/>
   </geometry>
  </collision>
 </link>

 <joint name="joint_plant_50" type="fixed">
  <origin xyz="1.783602 -0.576721 0.000000" rpy="0.000000 0.000000 2.363394" />
  <parent link="dummy_link" />
  <child link="plant_50" />
 </joint>


 <link name="plant_51">
  <inertial>
   <origin xyz="0 0 0" /> 
   <mass value="5.0" />
   <inertia ixx="0.0" ixy="0.0" ixz="0.0" iyy="0.0" iyz="0.0" izz="0.0" />
  </inertial>
  <visual>
   <origin xyz="0 0 0"/>
   <geometry>
    <mesh filename="package://herbi_gazebo_worlds/ros/meshes/sunflower.dae"/>
   </geometry>
  </visual>
  <collision>
   <origin xyz="0 0 0.2"/>
   <geometry>
    <cylinder length="0.4" radius="0.02"/>
   </geometry>
  </collision>
 </link>

 <joint name="joint_plant_51" type="fixed">
  <origin xyz="1.815045 -1.352076 0.000000" rpy="0.000000 0.000000 0.555799" />
  <parent link="dummy_link" />
  <child link="plant_51" />
 </joint>


 <link name="plant_52">
  <inertial>
   <origin xyz="0 0 0" /> 
   <mass value="5.0" />
   <inertia ixx="0.0" ixy="0.0" ixz="0.0" iyy="0.0" iyz="0.0" izz="0.0" />
  </inertial>
  <visual>
   <origin xyz="0 0 0"/>
   <geometry>
    <mesh filename="package://herbi_gazebo_worlds/ros/meshes/sunflower.dae"/>
   </geometry>
  </visual>
  <collision>
   <origin xyz="0 0 0.2"/>
   <geometry>
    <cylinder length="0.4" radius="0.02"/>
   </geometry>
  </collision>
 </link>

 <joint name="joint_plant_52" type="fixed">
  <origin xyz="1.823808 -2.096912 0.000000" rpy="0.000000 0.000000 1.744418" />
  <parent link="dummy_link" />
  <child link="plant_52" />
 </joint>


 <link name="plant_53">
  <inertial>
   <origin xyz="0 0 0" /> 
   <mass value="5.0" />
   <inertia ixx="0.0" ixy="0.0" ixz="0.0" iyy="0.0" iyz="0.0" izz="0.0" />
  </inertial>
  <visual>
   <origin xyz="0 0 0"/>
   <geometry>
    <mesh filename="package://herbi_gazebo_worlds/ros/meshes/sunflower.dae"/>
   </geometry>
  </visual>
  <collision>
   <origin xyz="0 0 0.2"/>
   <geometry>
    <cylinder length="0.4" radius="0.02"/>
   </geometry>
  </collision>
 </link>

 <joint name="joint_plant_53" type="fixed">
  <origin xyz="1.953922 0.129985 0.000000" rpy="0.000000 0.000000 1.651921" />
  <parent link="dummy_link" />
  <child link="plant_53" />
 </joint>


 <link name="plant_54">
  <inertial>
   <origin xyz="0 0 0" /> 
   <mass value="5.0" />
   <inertia ixx="0.0" ixy="0.0" ixz="0.0" iyy="0.0" iyz="0.0" izz="0.0" />
  </inertial>
  <visual>
   <origin xyz="0 0 0"/>
   <geometry>
    <mesh filename="package://herbi_gazebo_worlds/ros/meshes/sunflower.dae"/>
   </geometry>
  </visual>
  <collision>
   <origin xyz="0 0 0.2"/>
   <geometry>
    <cylinder length="0.4" radius="0.02"/>
   </geometry>
  </collision>
 </link>

 <joint name="joint_plant_54" type="fixed">
  <origin xyz="1.901431 -0.647285 0.000000" rpy="0.000000 0.000000 2.403360" />
  <parent link="dummy_link" />
  <child link="plant_54" />
 </joint>


 <link name="plant_55">
  <inertial>
   <origin xyz="0 0 0" /> 
   <mass value="5.0" />
   <inertia ixx="0.0" ixy="0.0" ixz="0.0" iyy="0.0" iyz="0.0" izz="0.0" />
  </inertial>
  <visual>
   <origin xyz="0 0 0"/>
   <geometry>
    <mesh filename="package://herbi_gazebo_worlds/ros/meshes/sunflower.dae"/>
   </geometry>
  </visual>
  <collision>
   <origin xyz="0 0 0.2"/>
   <geometry>
    <cylinder length="0.4" radius="0.02"/>
   </geometry>
  </collision>
 </link>

 <joint name="joint_plant_55" type="fixed">
  <origin xyz="1.927850 -1.410054 0.000000" rpy="0.000000 0.000000 2.856241" />
  <parent link="dummy_link" />
  <child link="plant_55" />
 </joint>


 <link name="plant_56">
  <inertial>
   <origin xyz="0 0 0" /> 
   <mass value="5.0" />
   <inertia ixx="0.0" ixy="0.0" ixz="0.0" iyy="0.0" iyz="0.0" izz="0.0" />
  </inertial>
  <visual>
   <origin xyz="0 0 0"/>
   <geometry>
    <mesh filename="package://herbi_gazebo_worlds/ros/meshes/sunflower.dae"/>
   </geometry>
  </visual>
  <collision>
   <origin xyz="0 0 0.2"/>
   <geometry>
    <cylinder length="0.4" radius="0.02"/>
   </geometry>
  </collision>
 </link>

 <joint name="joint_plant_56" type="fixed">
  <origin xyz="1.950012 -2.145255 0.000000" rpy="0.000000 0.000000 0.463915" />
  <parent link="dummy_link" />
  <child link="plant_56" />
 </joint>


 <link name="plant_57">
  <inertial>
   <origin xyz="0 0 0" /> 
   <mass value="5.0" />
   <inertia ixx="0.0" ixy="0.0" ixz="0.0" iyy="0.0" iyz="0.0" izz="0.0" />
  </inertial>
  <visual>
   <origin xyz="0 0 0"/>
   <geometry>
    <mesh filename="package://herbi_gazebo_worlds/ros/meshes/sunflower.dae"/>
   </geometry>
  </visual>
  <collision>
   <origin xyz="0 0 0.2"/>
   <geometry>
    <cylinder length="0.4" radius="0.02"/>
   </geometry>
  </collision>
 </link>

 <joint name="joint_plant_57" type="fixed">
  <origin xyz="2.075820 0.113302 0.000000" rpy="0.000000 0.000000 2.484594" />
  <parent link="dummy_link" />
  <child link="plant_57" />
 </joint>


 <link name="plant_58">
  <inertial>
   <origin xyz="0 0 0" /> 
   <mass value="5.0" />
   <inertia ixx="0.0" ixy="0.0" ixz="0.0" iyy="0.0" iyz="0.0" izz="0.0" />
  </inertial>
  <visual>
   <origin xyz="0 0 0"/>
   <geometry>
    <mesh filename="package://herbi_gazebo_worlds/ros/meshes/sunflower.dae"/>
   </geometry>
  </visual>
  <collision>
   <origin xyz="0 0 0.2"/>
   <geometry>
    <cylinder length="0.4" radius="0.02"/>
   </geometry>
  </collision>
 </link>

 <joint name="joint_plant_58" type="fixed">
  <origin xyz="2.072709 -0.701197 0.000000" rpy="0.000000 0.000000 1.753996" />
  <parent link="dummy_link" />
  <child link="plant_58" />
 </joint>


 <link name="plant_59">
  <inertial>
   <origin xyz="0 0 0" /> 
   <mass value="5.0" />
   <inertia ixx="0.0" ixy="0.0" ixz="0.0" iyy="0.0" iyz="0.0" izz="0.0" />
  </inertial>
  <visual>
   <origin xyz="0 0 0"/>
   <geometry>
    <mesh filename="package://herbi_gazebo_worlds/ros/meshes/sunflower.dae"/>
   </geometry>
  </visual>
  <collision>
   <origin xyz="0 0 0.2"/>
   <geometry>
    <cylinder length="0.4" radius="0.02"/>
   </geometry>
  </collision>
 </link>

 <joint name="joint_plant_59" type="fixed">
  <origin xyz="2.093844 -1.456872 0.000000" rpy="0.000000 0.000000 2.803859" />
  <parent link="dummy_link" />
  <child link="plant_59" />
 </joint>


 <link name="plant_60">
  <inertial>
   <origin xyz="0 0 0" /> 
   <mass value="5.0" />
   <inertia ixx="0.0" ixy="0.0" ixz="0.0" iyy="0.0" iyz="0.0" izz="0.0" />
  </inertial>
  <visual>
   <origin xyz="0 0 0"/>
   <geometry>
    <mesh filename="package://herbi_gazebo_worlds/ros/meshes/sunflower.dae"/>
   </geometry>
  </visual>
  <collision>
   <origin xyz="0 0 0.2"/>
   <geometry>
    <cylinder length="0.4" radius="0.02"/>
   </geometry>
  </collision>
 </link>

 <joint name="joint_plant_60" type="fixed">
  <origin xyz="2.097939 -2.204122 0.000000" rpy="0.000000 0.000000 0.644432" />
  <parent link="dummy_link" />
  <child link="plant_60" />
 </joint>


 <link name="plant_61">
  <inertial>
   <origin xyz="0 0 0" /> 
   <mass value="5.0" />
   <inertia ixx="0.0" ixy="0.0" ixz="0.0" iyy="0.0" iyz="0.0" izz="0.0" />
  </inertial>
  <visual>
   <origin xyz="0 0 0"/>
   <geometry>
    <mesh filename="package://herbi_gazebo_worlds/ros/meshes/sunflower.dae"/>
   </geometry>
  </visual>
  <collision>
   <origin xyz="0 0 0.2"/>
   <geometry>
    <cylinder length="0.4" radius="0.02"/>
   </geometry>
  </collision>
 </link>

 <joint name="joint_plant_61" type="fixed">
  <origin xyz="2.275224 0.013105 0.000000" rpy="0.000000 0.000000 0.570267" />
  <parent link="dummy_link" />
  <child link="plant_61" />
 </joint>


 <link name="plant_62">
  <inertial>
   <origin xyz="0 0 0" /> 
   <mass value="5.0" />
   <inertia ixx="0.0" ixy="0.0" ixz="0.0" iyy="0.0" iyz="0.0" izz="0.0" />
  </inertial>
  <visual>
   <origin xyz="0 0 0"/>
   <geometry>
    <mesh filename="package://herbi_gazebo_worlds/ros/meshes/sunflower.dae"/>
   </geometry>
  </visual>
  <collision>
   <origin xyz="0 0 0.2"/>
   <geometry>
    <cylinder length="0.4" radius="0.02"/>
   </geometry>
  </collision>
 </link>

 <joint name="joint_plant_62" type="fixed">
  <origin xyz="2.276061 -0.713890 0.000000" rpy="0.000000 0.000000 1.683898" />
  <parent link="dummy_link" />
  <child link="plant_62" />
 </joint>


 <link name="plant_63">
  <inertial>
   <origin xyz="0 0 0" /> 
   <mass value="5.0" />
   <inertia ixx="0.0" ixy="0.0" ixz="0.0" iyy="0.0" iyz="0.0" izz="0.0" />
  </inertial>
  <visual>
   <origin xyz="0 0 0"/>
   <geometry>
    <mesh filename="package://herbi_gazebo_worlds/ros/meshes/sunflower.dae"/>
   </geometry>
  </visual>
  <collision>
   <origin xyz="0 0 0.2"/>
   <geometry>
    <cylinder length="0.4" radius="0.02"/>
   </geometry>
  </collision>
 </link>

 <joint name="joint_plant_63" type="fixed">
  <origin xyz="2.250090 -1.546958 0.000000" rpy="0.000000 0.000000 2.014523" />
  <parent link="dummy_link" />
  <child link="plant_63" />
 </joint>


 <link name="plant_64">
  <inertial>
   <origin xyz="0 0 0" /> 
   <mass value="5.0" />
   <inertia ixx="0.0" ixy="0.0" ixz="0.0" iyy="0.0" iyz="0.0" izz="0.0" />
  </inertial>
  <visual>
   <origin xyz="0 0 0"/>
   <geometry>
    <mesh filename="package://herbi_gazebo_worlds/ros/meshes/sunflower.dae"/>
   </geometry>
  </visual>
  <collision>
   <origin xyz="0 0 0.2"/>
   <geometry>
    <cylinder length="0.4" radius="0.02"/>
   </geometry>
  </collision>
 </link>

 <joint name="joint_plant_64" type="fixed">
  <origin xyz="2.300547 -2.228240 0.000000" rpy="0.000000 0.000000 1.075797" />
  <parent link="dummy_link" />
  <child link="plant_64" />
 </joint>


 <link name="plant_65">
  <inertial>
   <origin xyz="0 0 0" /> 
   <mass value="5.0" />
   <inertia ixx="0.0" ixy="0.0" ixz="0.0" iyy="0.0" iyz="0.0" izz="0.0" />
  </inertial>
  <visual>
   <origin xyz="0 0 0"/>
   <geometry>
    <mesh filename="package://herbi_gazebo_worlds/ros/meshes/sunflower.dae"/>
   </geometry>
  </visual>
  <collision>
   <origin xyz="0 0 0.2"/>
   <geometry>
    <cylinder length="0.4" radius="0.02"/>
   </geometry>
  </collision>
 </link>

 <joint name="joint_plant_65" type="fixed">
  <origin xyz="2.404474 -0.025248 0.000000" rpy="0.000000 0.000000 0.399746" />
  <parent link="dummy_link" />
  <child link="plant_65" />
 </joint>


 <link name="plant_66">
  <inertial>
   <origin xyz="0 0 0" /> 
   <mass value="5.0" />
   <inertia ixx="0.0" ixy="0.0" ixz="0.0" iyy="0.0" iyz="0.0" izz="0.0" />
  </inertial>
  <visual>
   <origin xyz="0 0 0"/>
   <geometry>
    <mesh filename="package://herbi_gazebo_worlds/ros/meshes/sunflower.dae"/>
   </geometry>
  </visual>
  <collision>
   <origin xyz="0 0 0.2"/>
   <geometry>
    <cylinder length="0.4" radius="0.02"/>
   </geometry>
  </collision>
 </link>

 <joint name="joint_plant_66" type="fixed">
  <origin xyz="2.407330 -0.762750 0.000000" rpy="0.000000 0.000000 1.962950" />
  <parent link="dummy_link" />
  <child link="plant_66" />
 </joint>


 <link name="plant_67">
  <inertial>
   <origin xyz="0 0 0" /> 
   <mass value="5.0" />
   <inertia ixx="0.0" ixy="0.0" ixz="0.0" iyy="0.0" iyz="0.0" izz="0.0" />
  </inertial>
  <visual>
   <origin xyz="0 0 0"/>
   <geometry>
    <mesh filename="package://herbi_gazebo_worlds/ros/meshes/sunflower.dae"/>
   </geometry>
  </visual>
  <collision>
   <origin xyz="0 0 0.2"/>
   <geometry>
    <cylinder length="0.4" radius="0.02"/>
   </geometry>
  </collision>
 </link>

 <joint name="joint_plant_67" type="fixed">
  <origin xyz="2.427567 -1.552900 0.000000" rpy="0.000000 0.000000 1.254685" />
  <parent link="dummy_link" />
  <child link="plant_67" />
 </joint>


 <link name="plant_68">
  <inertial>
   <origin xyz="0 0 0" /> 
   <mass value="5.0" />
   <inertia ixx="0.0" ixy="0.0" ixz="0.0" iyy="0.0" iyz="0.0" izz="0.0" />
  </inertial>
  <visual>
   <origin xyz="0 0 0"/>
   <geometry>
    <mesh filename="package://herbi_gazebo_worlds/ros/meshes/sunflower.dae"/>
   </geometry>
  </visual>
  <collision>
   <origin xyz="0 0 0.2"/>
   <geometry>
    <cylinder length="0.4" radius="0.02"/>
   </geometry>
  </collision>
 </link>

 <joint name="joint_plant_68" type="fixed">
  <origin xyz="2.377684 -2.301708 0.000000" rpy="0.000000 0.000000 1.613620" />
  <parent link="dummy_link" />
  <child link="plant_68" />
 </joint>


 <link name="plant_69">
  <inertial>
   <origin xyz="0 0 0" /> 
   <mass value="5.0" />
   <inertia ixx="0.0" ixy="0.0" ixz="0.0" iyy="0.0" iyz="0.0" izz="0.0" />
  </inertial>
  <visual>
   <origin xyz="0 0 0"/>
   <geometry>
    <mesh filename="package://herbi_gazebo_worlds/ros/meshes/sunflower.dae"/>
   </geometry>
  </visual>
  <collision>
   <origin xyz="0 0 0.2"/>
   <geometry>
    <cylinder length="0.4" radius="0.02"/>
   </geometry>
  </collision>
 </link>

 <joint name="joint_plant_69" type="fixed">
  <origin xyz="2.544325 -0.088613 0.000000" rpy="0.000000 0.000000 2.395781" />
  <parent link="dummy_link" />
  <child link="plant_69" />
 </joint>


 <link name="plant_70">
  <inertial>
   <origin xyz="0 0 0" /> 
   <mass value="5.0" />
   <inertia ixx="0.0" ixy="0.0" ixz="0.0" iyy="0.0" iyz="0.0" izz="0.0" />
  </inertial>
  <visual>
   <origin xyz="0 0 0"/>
   <geometry>
    <mesh filename="package://herbi_gazebo_worlds/ros/meshes/sunflower.dae"/>
   </geometry>
  </visual>
  <collision>
   <origin xyz="0 0 0.2"/>
   <geometry>
    <cylinder length="0.4" radius="0.02"/>
   </geometry>
  </collision>
 </link>

 <joint name="joint_plant_70" type="fixed">
  <origin xyz="2.501080 -0.845677 0.000000" rpy="0.000000 0.000000 2.863893" />
  <parent link="dummy_link" />
  <child link="plant_70" />
 </joint>


 <link name="plant_71">
  <inertial>
   <origin xyz="0 0 0" /> 
   <mass value="5.0" />
   <inertia ixx="0.0" ixy="0.0" ixz="0.0" iyy="0.0" iyz="0.0" izz="0.0" />
  </inertial>
  <visual>
   <origin xyz="0 0 0"/>
   <geometry>
    <mesh filename="package://herbi_gazebo_worlds/ros/meshes/sunflower.dae"/>
   </geometry>
  </visual>
  <collision>
   <origin xyz="0 0 0.2"/>
   <geometry>
    <cylinder length="0.4" radius="0.02"/>
   </geometry>
  </collision>
 </link>

 <joint name="joint_plant_71" type="fixed">
  <origin xyz="2.525465 -1.609926 0.000000" rpy="0.000000 0.000000 1.067090" />
  <parent link="dummy_link" />
  <child link="plant_71" />
 </joint>


 <link name="plant_72">
  <inertial>
   <origin xyz="0 0 0" /> 
   <mass value="5.0" />
   <inertia ixx="0.0" ixy="0.0" ixz="0.0" iyy="0.0" iyz="0.0" izz="0.0" />
  </inertial>
  <visual>
   <origin xyz="0 0 0"/>
   <geometry>
    <mesh filename="package://herbi_gazebo_worlds/ros/meshes/sunflower.dae"/>
   </geometry>
  </visual>
  <collision>
   <origin xyz="0 0 0.2"/>
   <geometry>
    <cylinder length="0.4" radius="0.02"/>
   </geometry>
  </collision>
 </link>

 <joint name="joint_plant_72" type="fixed">
  <origin xyz="2.580674 -2.374650 0.000000" rpy="0.000000 0.000000 3.015918" />
  <parent link="dummy_link" />
  <child link="plant_72" />
 </joint>


 <link name="plant_73">
  <inertial>
   <origin xyz="0 0 0" /> 
   <mass value="5.0" />
   <inertia ixx="0.0" ixy="0.0" ixz="0.0" iyy="0.0" iyz="0.0" izz="0.0" />
  </inertial>
  <visual>
   <origin xyz="0 0 0"/>
   <geometry>
    <mesh filename="package://herbi_gazebo_worlds/ros/meshes/sunflower.dae"/>
   </geometry>
  </visual>
  <collision>
   <origin xyz="0 0 0.2"/>
   <geometry>
    <cylinder length="0.4" radius="0.02"/>
   </geometry>
  </collision>
 </link>

 <joint name="joint_plant_73" type="fixed">
  <origin xyz="2.691427 -0.137891 0.000000" rpy="0.000000 0.000000 1.580775" />
  <parent link="dummy_link" />
  <child link="plant_73" />
 </joint>


 <link name="plant_74">
  <inertial>
   <origin xyz="0 0 0" /> 
   <mass value="5.0" />
   <inertia ixx="0.0" ixy="0.0" ixz="0.0" iyy="0.0" iyz="0.0" izz="0.0" />
  </inertial>
  <visual>
   <origin xyz="0 0 0"/>
   <geometry>
    <mesh filename="package://herbi_gazebo_worlds/ros/meshes/sunflower.dae"/>
   </geometry>
  </visual>
  <collision>
   <origin xyz="0 0 0.2"/>
   <geometry>
    <cylinder length="0.4" radius="0.02"/>
   </geometry>
  </collision>
 </link>

 <joint name="joint_plant_74" type="fixed">
  <origin xyz="2.713484 -0.871553 0.000000" rpy="0.000000 0.000000 2.398631" />
  <parent link="dummy_link" />
  <child link="plant_74" />
 </joint>


 <link name="plant_75">
  <inertial>
   <origin xyz="0 0 0" /> 
   <mass value="5.0" />
   <inertia ixx="0.0" ixy="0.0" ixz="0.0" iyy="0.0" iyz="0.0" izz="0.0" />
  </inertial>
  <visual>
   <origin xyz="0 0 0"/>
   <geometry>
    <mesh filename="package://herbi_gazebo_worlds/ros/meshes/sunflower.dae"/>
   </geometry>
  </visual>
  <collision>
   <origin xyz="0 0 0.2"/>
   <geometry>
    <cylinder length="0.4" radius="0.02"/>
   </geometry>
  </collision>
 </link>

 <joint name="joint_plant_75" type="fixed">
  <origin xyz="2.661993 -1.669322 0.000000" rpy="0.000000 0.000000 0.270730" />
  <parent link="dummy_link" />
  <child link="plant_75" />
 </joint>


 <link name="plant_76">
  <inertial>
   <origin xyz="0 0 0" /> 
   <mass value="5.0" />
   <inertia ixx="0.0" ixy="0.0" ixz="0.0" iyy="0.0" iyz="0.0" izz="0.0" />
  </inertial>
  <visual>
   <origin xyz="0 0 0"/>
   <geometry>
    <mesh filename="package://herbi_gazebo_worlds/ros/meshes/sunflower.dae"/>
   </geometry>
  </visual>
  <collision>
   <origin xyz="0 0 0.2"/>
   <geometry>
    <cylinder length="0.4" radius="0.02"/>
   </geometry>
  </collision>
 </link>

 <joint name="joint_plant_76" type="fixed">
  <origin xyz="2.703839 -2.432989 0.000000" rpy="0.000000 0.000000 0.848989" />
  <parent link="dummy_link" />
  <child link="plant_76" />
 </joint>


 <link name="plant_77">
  <inertial>
   <origin xyz="0 0 0" /> 
   <mass value="5.0" />
   <inertia ixx="0.0" ixy="0.0" ixz="0.0" iyy="0.0" iyz="0.0" izz="0.0" />
  </inertial>
  <visual>
   <origin xyz="0 0 0"/>
   <geometry>
    <mesh filename="package://herbi_gazebo_worlds/ros/meshes/sunflower.dae"/>
   </geometry>
  </visual>
  <collision>
   <origin xyz="0 0 0.2"/>
   <geometry>
    <cylinder length="0.4" radius="0.02"/>
   </geometry>
  </collision>
 </link>

 <joint name="joint_plant_77" type="fixed">
  <origin xyz="2.862769 -0.185030 0.000000" rpy="0.000000 0.000000 0.616500" />
  <parent link="dummy_link" />
  <child link="plant_77" />
 </joint>


 <link name="plant_78">
  <inertial>
   <origin xyz="0 0 0" /> 
   <mass value="5.0" />
   <inertia ixx="0.0" ixy="0.0" ixz="0.0" iyy="0.0" iyz="0.0" izz="0.0" />
  </inertial>
  <visual>
   <origin xyz="0 0 0"/>
   <geometry>
    <mesh filename="package://herbi_gazebo_worlds/ros/meshes/sunflower.dae"/>
   </geometry>
  </visual>
  <collision>
   <origin xyz="0 0 0.2"/>
   <geometry>
    <cylinder length="0.4" radius="0.02"/>
   </geometry>
  </collision>
 </link>

 <joint name="joint_plant_78" type="fixed">
  <origin xyz="2.819640 -0.921605 0.000000" rpy="0.000000 0.000000 1.885451" />
  <parent link="dummy_link" />
  <child link="plant_78" />
 </joint>


 <link name="plant_79">
  <inertial>
   <origin xyz="0 0 0" /> 
   <mass value="5.0" />
   <inertia ixx="0.0" ixy="0.0" ixz="0.0" iyy="0.0" iyz="0.0" izz="0.0" />
  </inertial>
  <visual>
   <origin xyz="0 0 0"/>
   <geometry>
    <mesh filename="package://herbi_gazebo_worlds/ros/meshes/sunflower.dae"/>
   </geometry>
  </visual>
  <collision>
   <origin xyz="0 0 0.2"/>
   <geometry>
    <cylinder length="0.4" radius="0.02"/>
   </geometry>
  </collision>
 </link>

 <joint name="joint_plant_79" type="fixed">
  <origin xyz="2.856268 -1.680304 0.000000" rpy="0.000000 0.000000 1.749718" />
  <parent link="dummy_link" />
  <child link="plant_79" />
 </joint>


 <link name="plant_80">
  <inertial>
   <origin xyz="0 0 0" /> 
   <mass value="5.0" />
   <inertia ixx="0.0" ixy="0.0" ixz="0.0" iyy="0.0" iyz="0.0" izz="0.0" />
  </inertial>
  <visual>
   <origin xyz="0 0 0"/>
   <geometry>
    <mesh filename="package://herbi_gazebo_worlds/ros/meshes/sunflower.dae"/>
   </geometry>
  </visual>
  <collision>
   <origin xyz="0 0 0.2"/>
   <geometry>
    <cylinder length="0.4" radius="0.02"/>
   </geometry>
  </collision>
 </link>

 <joint name="joint_plant_80" type="fixed">
  <origin xyz="2.852517 -2.478028 0.000000" rpy="0.000000 0.000000 2.604339" />
  <parent link="dummy_link" />
  <child link="plant_80" />
 </joint>


 <link name="plant_81">
  <inertial>
   <origin xyz="0 0 0" /> 
   <mass value="5.0" />
   <inertia ixx="0.0" ixy="0.0" ixz="0.0" iyy="0.0" iyz="0.0" izz="0.0" />
  </inertial>
  <visual>
   <origin xyz="0 0 0"/>
   <geometry>
    <mesh filename="package://herbi_gazebo_worlds/ros/meshes/sunflower.dae"/>
   </geometry>
  </visual>
  <collision>
   <origin xyz="0 0 0.2"/>
   <geometry>
    <cylinder length="0.4" radius="0.02"/>
   </geometry>
  </collision>
 </link>

 <joint name="joint_plant_81" type="fixed">
  <origin xyz="2.998051 -0.209690 0.000000" rpy="0.000000 0.000000 1.012547" />
  <parent link="dummy_link" />
  <child link="plant_81" />
 </joint>


 <link name="plant_82">
  <inertial>
   <origin xyz="0 0 0" /> 
   <mass value="5.0" />
   <inertia ixx="0.0" ixy="0.0" ixz="0.0" iyy="0.0" iyz="0.0" izz="0.0" />
  </inertial>
  <visual>
   <origin xyz="0 0 0"/>
   <geometry>
    <mesh filename="package://herbi_gazebo_worlds/ros/meshes/sunflower.dae"/>
   </geometry>
  </visual>
  <collision>
   <origin xyz="0 0 0.2"/>
   <geometry>
    <cylinder length="0.4" radius="0.02"/>
   </geometry>
  </collision>
 </link>

 <joint name="joint_plant_82" type="fixed">
  <origin xyz="2.982504 -0.987852 0.000000" rpy="0.000000 0.000000 1.880915" />
  <parent link="dummy_link" />
  <child link="plant_82" />
 </joint>


 <link name="plant_83">
  <inertial>
   <origin xyz="0 0 0" /> 
   <mass value="5.0" />
   <inertia ixx="0.0" ixy="0.0" ixz="0.0" iyy="0.0" iyz="0.0" izz="0.0" />
  </inertial>
  <visual>
   <origin xyz="0 0 0"/>
   <geometry>
    <mesh filename="package://herbi_gazebo_worlds/ros/meshes/sunflower.dae"/>
   </geometry>
  </visual>
  <collision>
   <origin xyz="0 0 0.2"/>
   <geometry>
    <cylinder length="0.4" radius="0.02"/>
   </geometry>
  </collision>
 </link>

 <joint name="joint_plant_83" type="fixed">
  <origin xyz="2.975136 -1.765087 0.000000" rpy="0.000000 0.000000 1.714211" />
  <parent link="dummy_link" />
  <child link="plant_83" />
 </joint>


 <link name="plant_84">
  <inertial>
   <origin xyz="0 0 0" /> 
   <mass value="5.0" />
   <inertia ixx="0.0" ixy="0.0" ixz="0.0" iyy="0.0" iyz="0.0" izz="0.0" />
  </inertial>
  <visual>
   <origin xyz="0 0 0"/>
   <geometry>
    <mesh filename="package://herbi_gazebo_worlds/ros/meshes/sunflower.dae"/>
   </geometry>
  </visual>
  <collision>
   <origin xyz="0 0 0.2"/>
   <geometry>
    <cylinder length="0.4" radius="0.02"/>
   </geometry>
  </collision>
 </link>

 <joint name="joint_plant_84" type="fixed">
  <origin xyz="2.998921 -2.525417 0.000000" rpy="0.000000 0.000000 1.519557" />
  <parent link="dummy_link" />
  <child link="plant_84" />
 </joint>




</robot>
